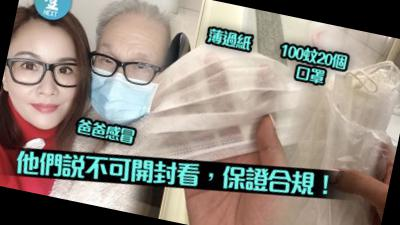with_mask: (77, 35, 165, 131)
